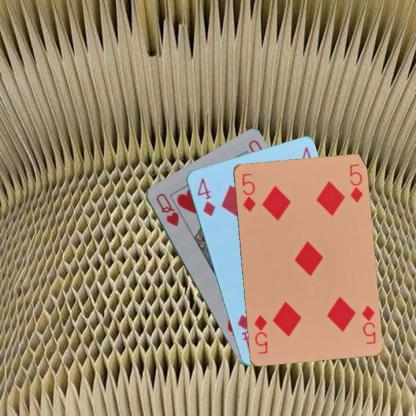4d: (194, 176, 217, 217)
5d: (359, 302, 377, 346), (239, 170, 257, 212)
Qh: (153, 190, 180, 228)
